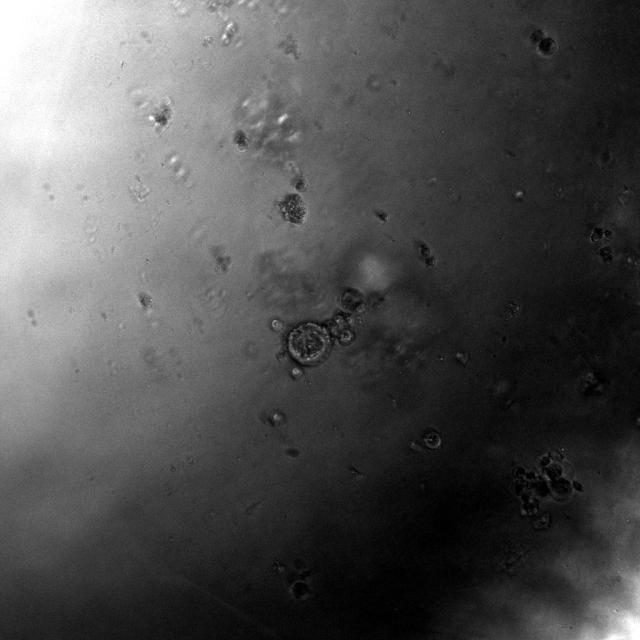organoid: (271, 288, 368, 378), (510, 452, 583, 526), (279, 193, 307, 223), (590, 227, 612, 262), (531, 29, 558, 57), (208, 245, 231, 272), (151, 101, 172, 126), (418, 243, 436, 267), (421, 429, 442, 449), (290, 580, 309, 601), (138, 291, 153, 311), (234, 130, 248, 150), (294, 178, 307, 192)
